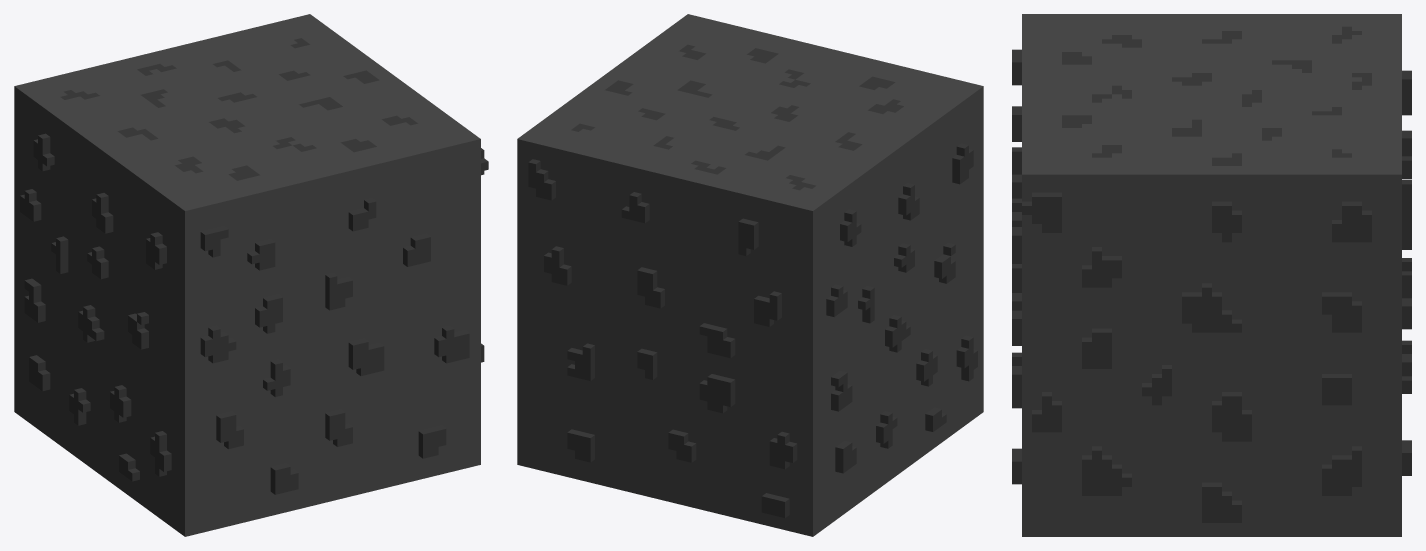
The model's file is coble.obj.
3 renders of one model, left to right at view 1: azimuth 30°, elevation 25°; view 2: azimuth 150°, elevation 25°; view 3: azimuth 270°, elevation 25°, orthographic. The views are drawn at different scales.
Size of the model in its own units: 4 by 4 by 4.
